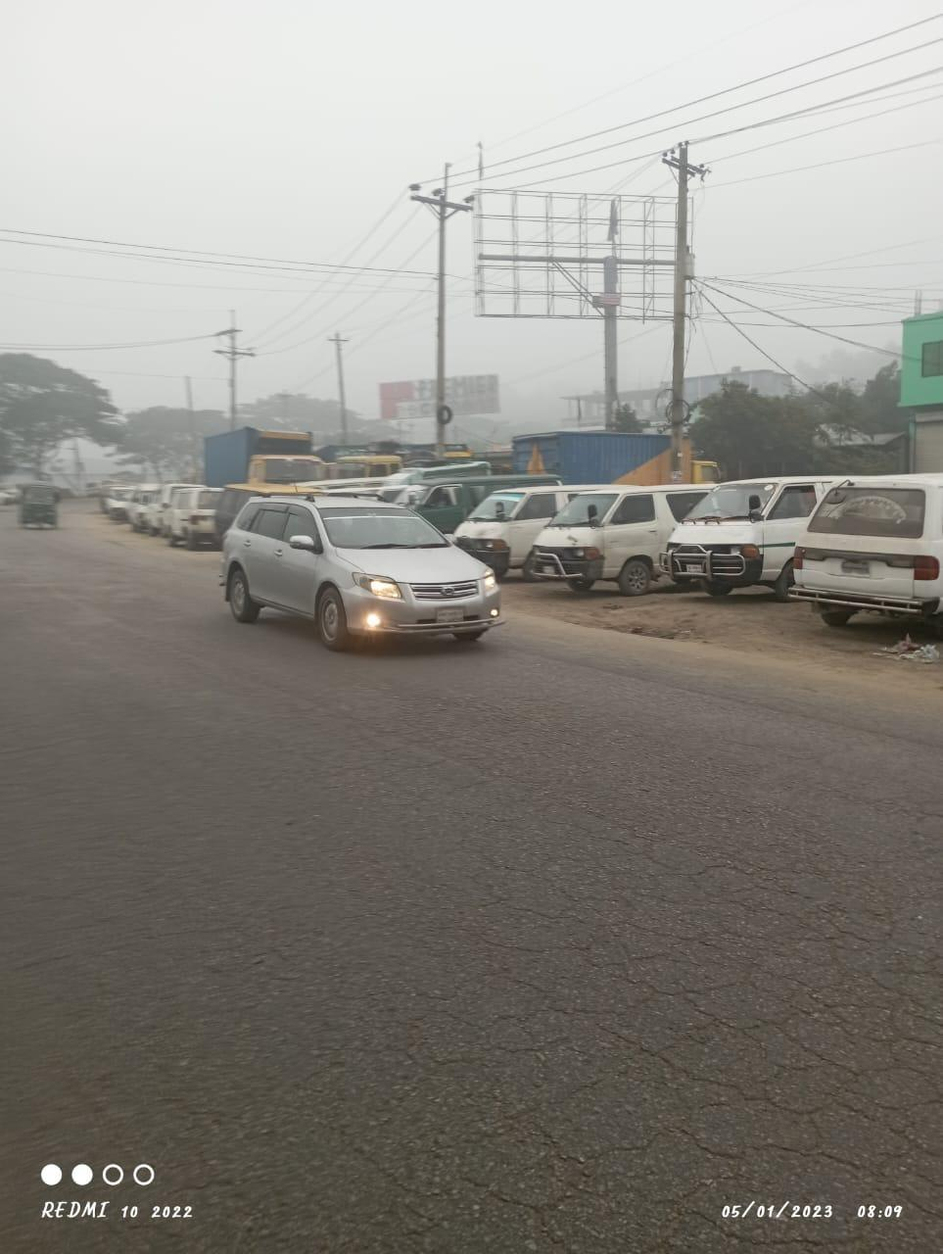Car: (213, 486, 510, 665), (787, 461, 943, 634), (523, 469, 713, 608), (659, 461, 826, 596), (460, 466, 595, 576)
Truck: (188, 418, 333, 517)
